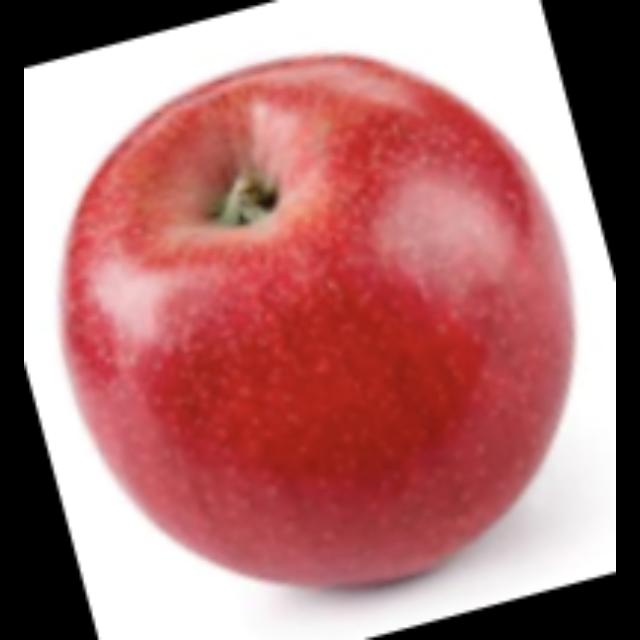Apel Segar: (62, 54, 576, 593)
